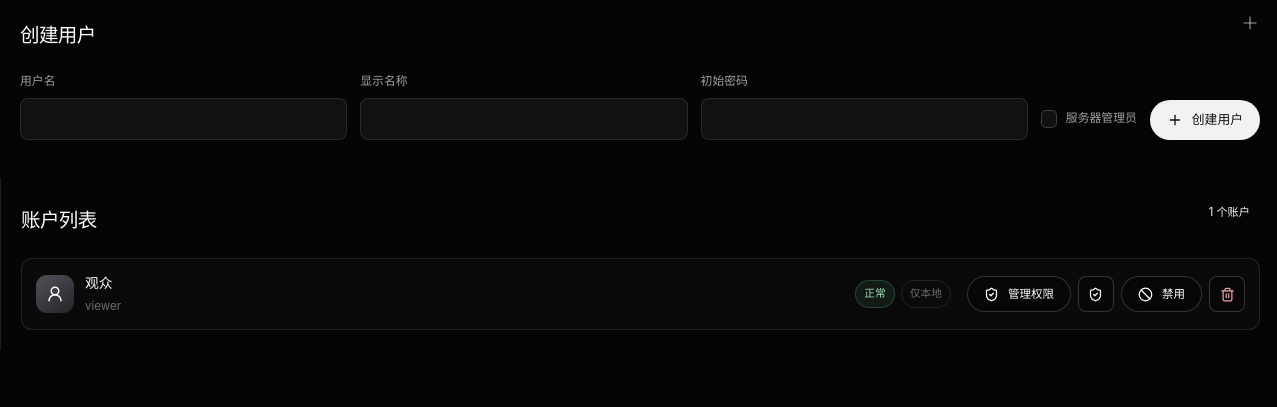
Scenario: AdminUsersPage user actions › shows a delete failure
Click the button named "删除观众账户": {"x": 1227, "y": 294} [1209, 276, 1245, 312]
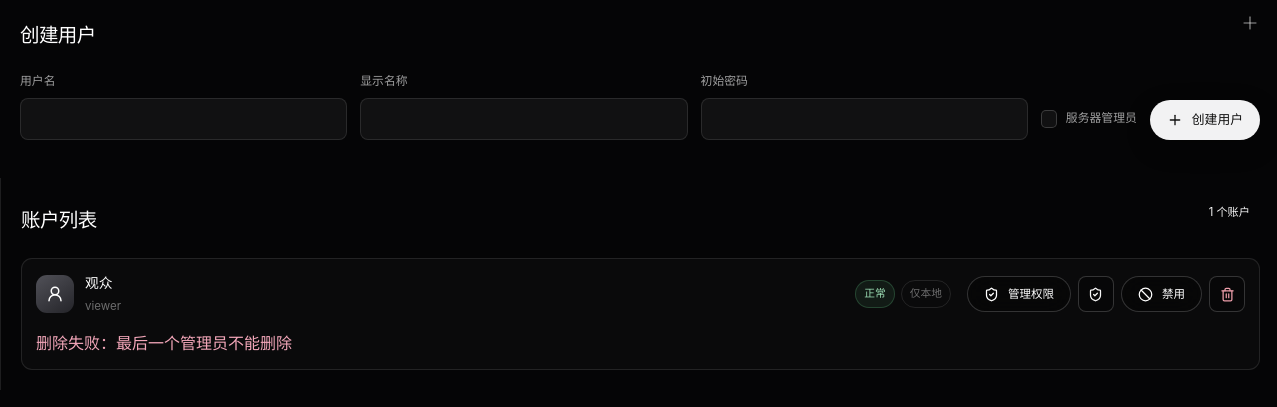
Check: the message "删除失败：最后一个管理员不能删除" is shown, box [36, 333, 292, 353]
